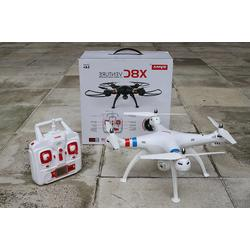drone: (101, 110, 238, 204), (83, 78, 166, 109)
